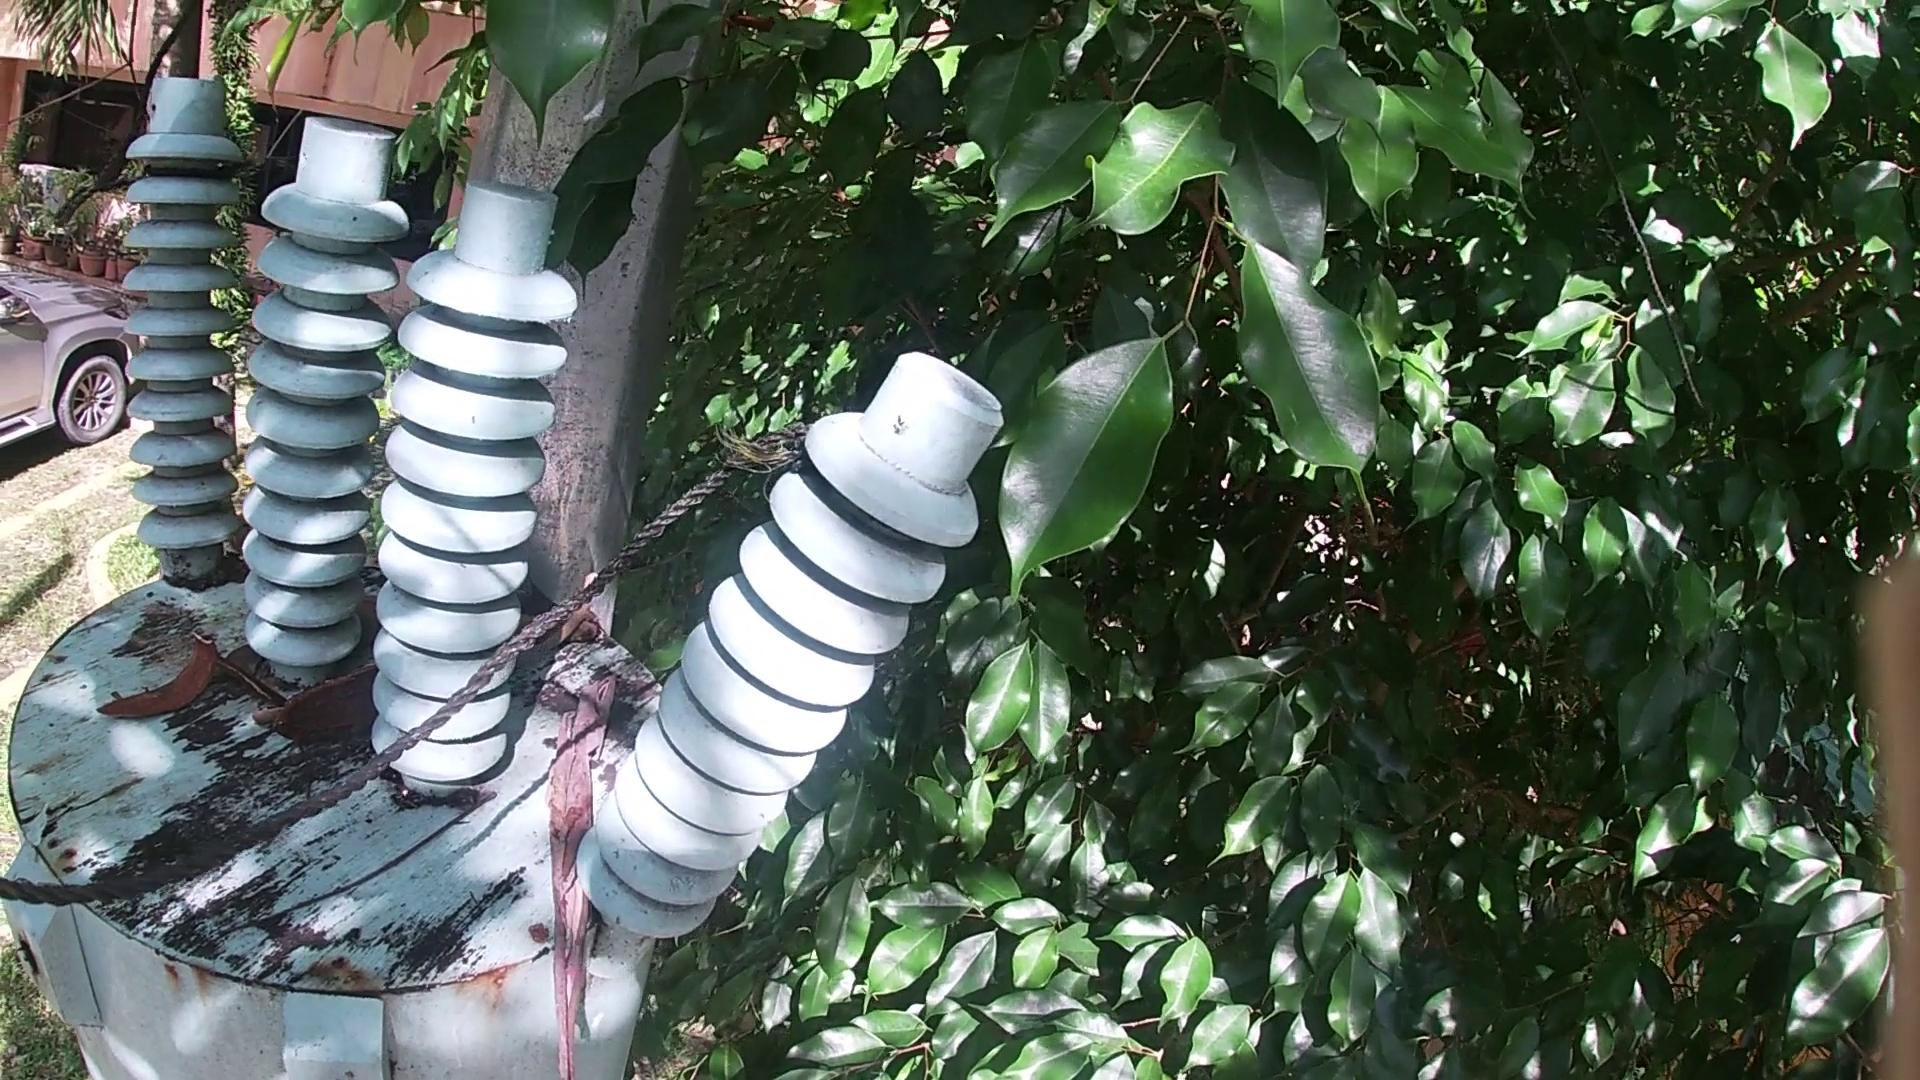leaf: (232, 646, 280, 704)
mahogany fruit: (87, 638, 216, 735), (294, 671, 400, 742)
tree branch: (224, 785, 487, 942), (537, 665, 633, 1080), (520, 587, 604, 655), (245, 698, 285, 738)
